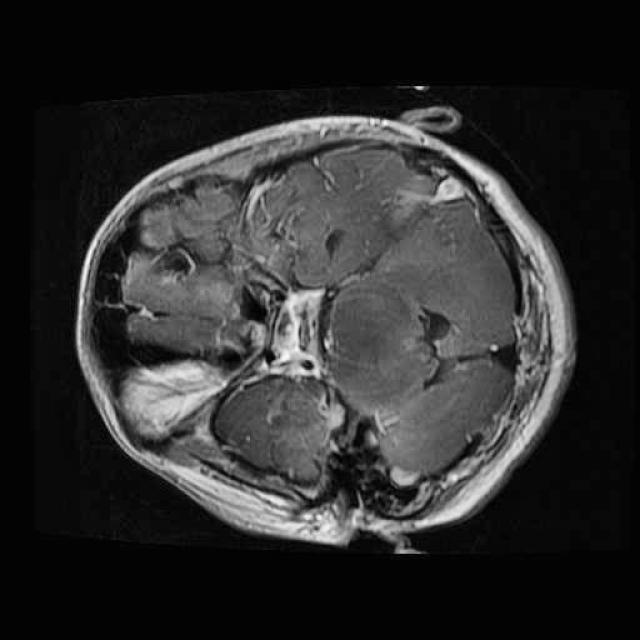Tumor: (115, 339, 235, 456)
